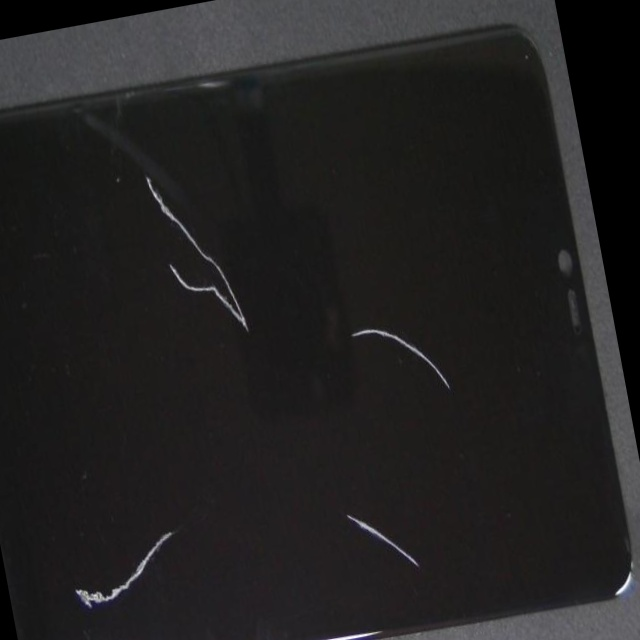scratch: (142, 181, 539, 640), (208, 111, 637, 512), (69, 234, 279, 640), (162, 256, 389, 403)
